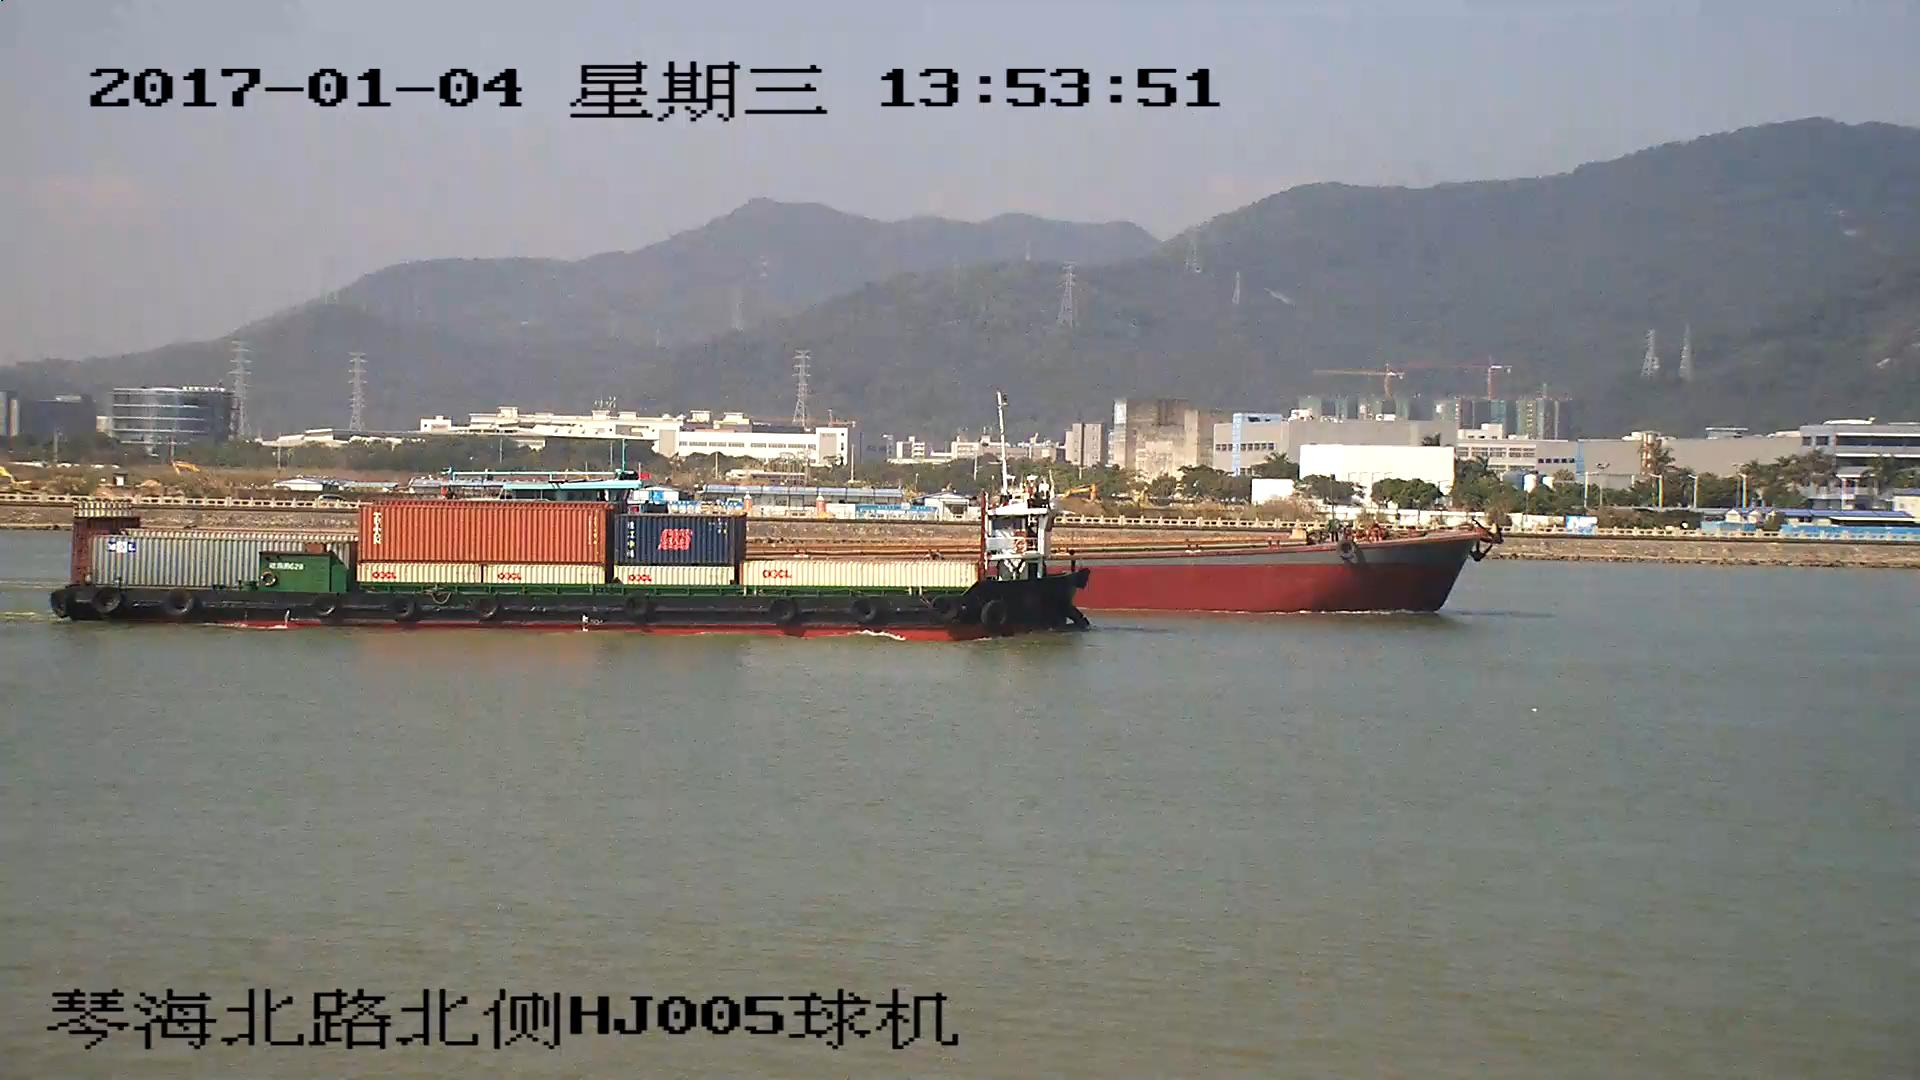bulk cargo carrier: (1087, 500, 1486, 614)
container ship: (49, 498, 1089, 628)
